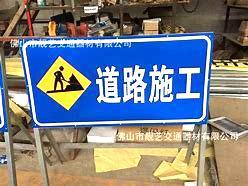sign: (24, 39, 208, 121)
